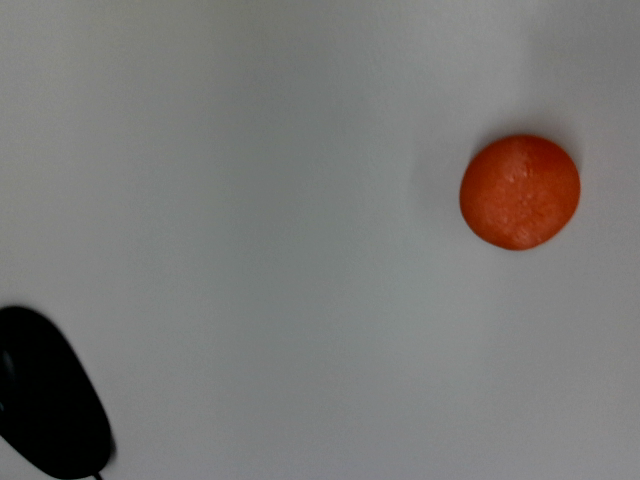orange: (436, 109, 601, 274)
